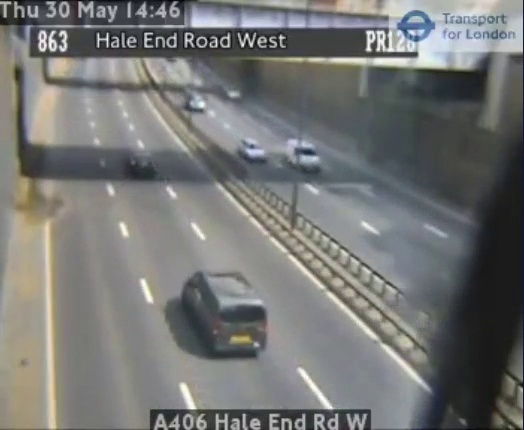van: (184, 272, 268, 356)
